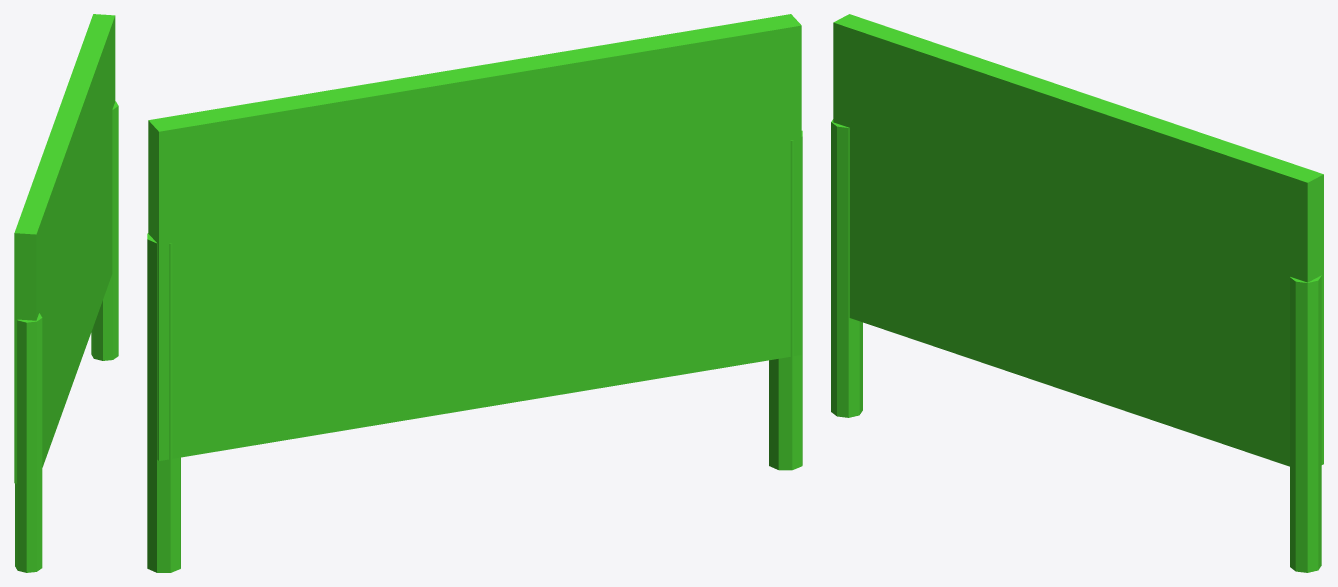
File: cylinder.002_lev1.glb
The picture shows the model from 3 angles, left to right: view 1: azimuth 30°, elevation 25°; view 2: azimuth 150°, elevation 25°; view 3: azimuth 270°, elevation 25°; orthographic projection. The views are drawn at different scales.
Parts seen in each view (by area): view 1: cylinder.002_lev1; view 2: cylinder.002_lev1; view 3: cylinder.002_lev1.
Boxes of the visible parts, x1,y1,x2,y2 form: cylinder.002_lev1: (14,14,118,572); cylinder.002_lev1: (147,14,802,572); cylinder.002_lev1: (831,14,1323,572).
Bounding box in the file's own units: 3.4 × 3.65 × 4.18.
